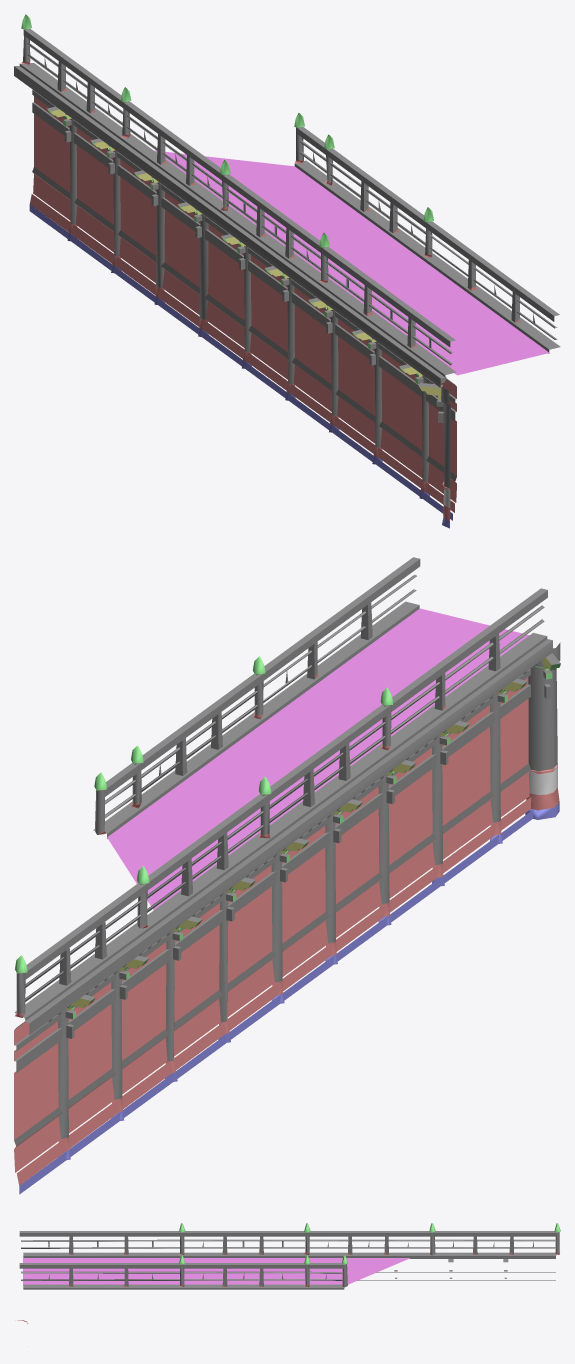
File: SM_ENV_LKNVLD_WallSet_Connector_Lod3.gltf
The picture shows the model from 3 angles, top to bottom: view 1: azimuth 30°, elevation 25°; view 2: azimuth 150°, elevation 25°; view 3: azimuth 270°, elevation 25°; orthographic projection. The views are drawn at different scales.
Parts seen in each view (by area): view 1: SM_ENV_LKNVLD_WallSet_Connector_Lod3; view 2: SM_ENV_LKNVLD_WallSet_Connector_Lod3; view 3: SM_ENV_LKNVLD_WallSet_Connector_Lod3.
Part boxes in pixels (<box>): SM_ENV_LKNVLD_WallSet_Connector_Lod3: <box>14,14,560,528</box>; SM_ENV_LKNVLD_WallSet_Connector_Lod3: <box>14,557,560,1194</box>; SM_ENV_LKNVLD_WallSet_Connector_Lod3: <box>15,1223,560,1324</box>.
Bounding box in the file's own units: 5.82 × 8.12 × 32.56.
